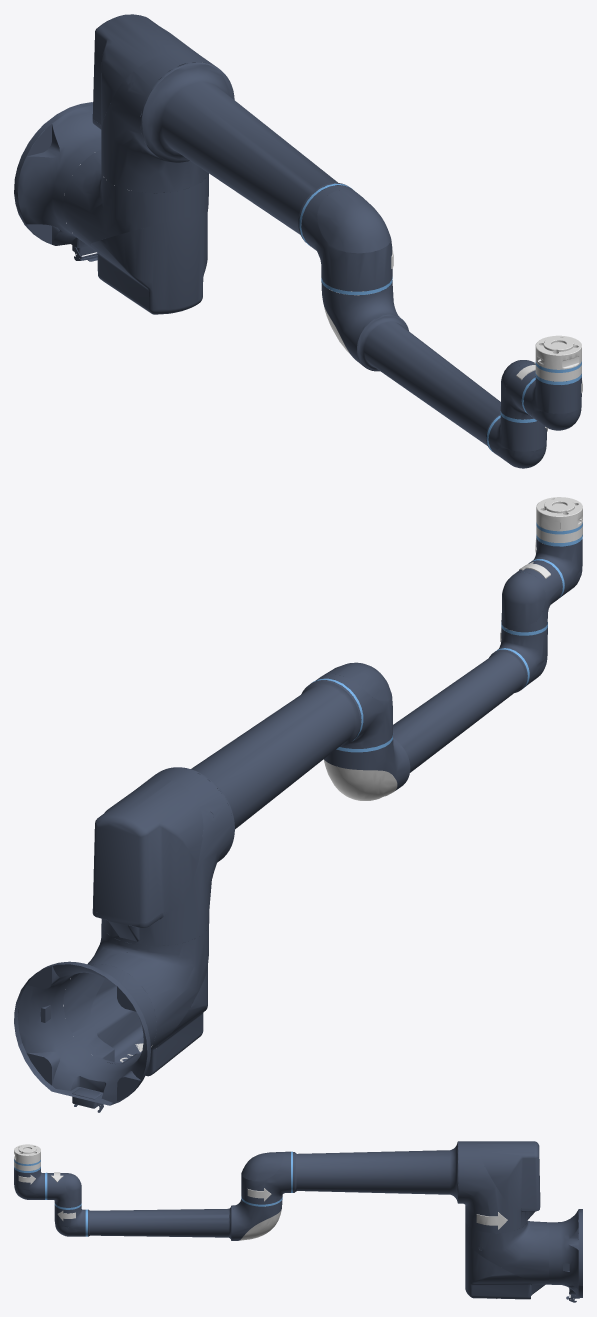
The model's file is 35kg-6axis-model-v2.glb.
The picture shows the model from 3 angles, top to bottom: view 1: azimuth 30°, elevation 25°; view 2: azimuth 150°, elevation 25°; view 3: azimuth 270°, elevation 25°; orthographic projection. The views are drawn at different scales.
Parts seen in each view (by area): view 1: Link2, Link1, Link3, Base, Link5, Link6, Link4; view 2: Link2, Link1, Link3, Base, Link4, Link6, Link5; view 3: Link2, Link3, Link1, Base, Link4, Link5, Link6, arrow2.
Boxes of the visible parts, left/top/right/bottom form: Link2: left=92, top=14, right=392, bottom=295; Link1: left=63, top=149, right=208, bottom=314; Link3: left=321, top=279, right=546, bottom=468; Base: left=14, top=102, right=154, bottom=261; Link5: left=523, top=372, right=581, bottom=430; Link6: left=535, top=335, right=581, bottom=381; Link4: left=500, top=360, right=561, bottom=419; Link2: left=92, top=662, right=393, bottom=946; Link1: left=63, top=914, right=208, bottom=1076; Link3: left=323, top=622, right=547, bottom=800; Base: left=14, top=961, right=156, bottom=1112; Link4: left=501, top=559, right=564, bottom=632; Link6: left=536, top=497, right=582, bottom=542; Link5: left=529, top=534, right=582, bottom=598; Link2: left=241, top=1141, right=540, bottom=1233; Link3: left=54, top=1199, right=282, bottom=1240; Link1: left=465, top=1221, right=548, bottom=1299; Base: left=549, top=1209, right=582, bottom=1302; Link4: left=45, top=1172, right=81, bottom=1207; Link5: left=14, top=1166, right=44, bottom=1199; Link6: left=14, top=1144, right=40, bottom=1170; arrow2: left=476, top=1212, right=507, bottom=1229.
Bounding box in the file's own units: 0.4001 × 0.7678 × 2.55.
